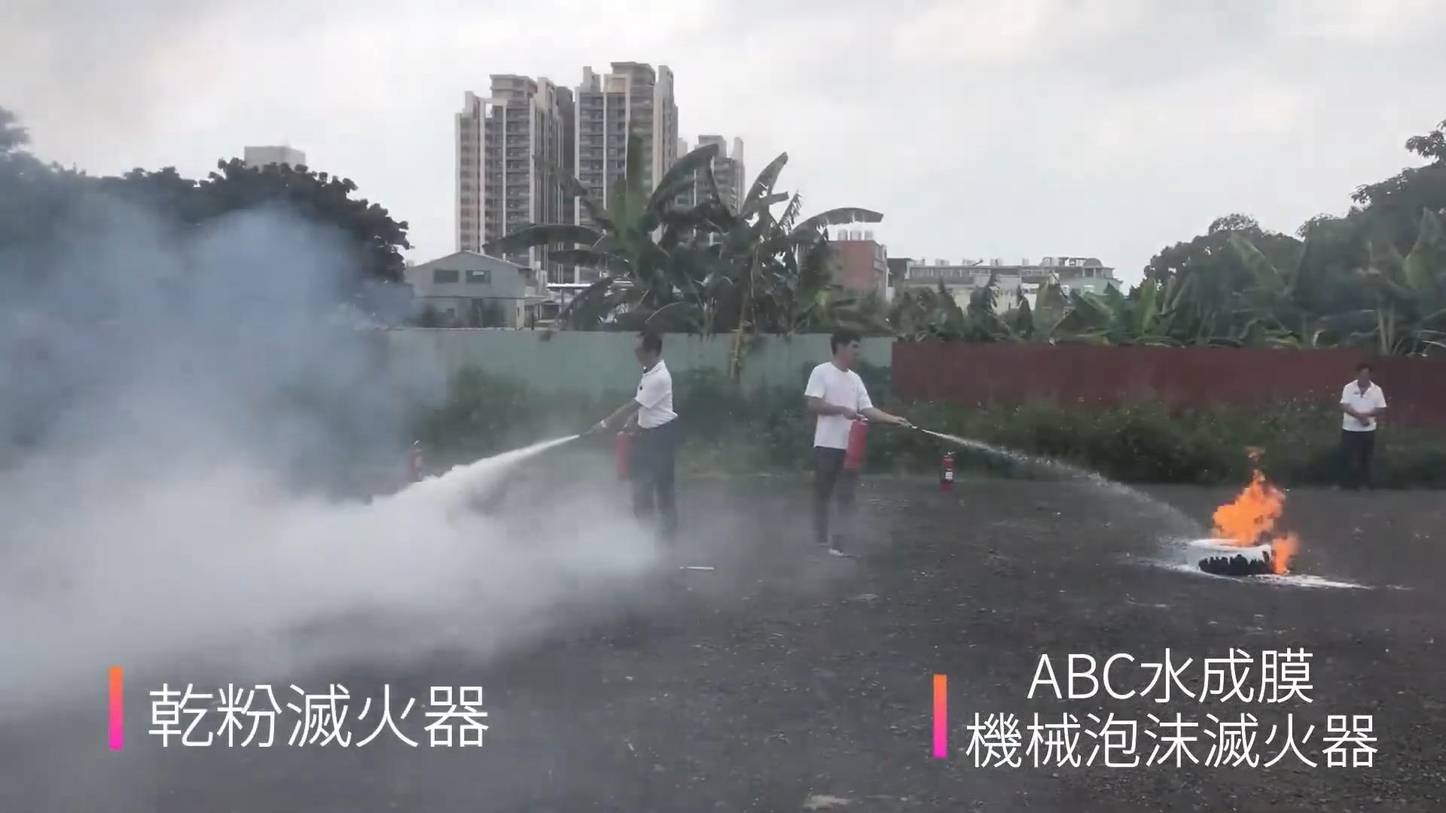FireExtinguisher: (840, 411, 874, 477), (610, 414, 636, 484), (394, 437, 430, 486), (936, 443, 958, 494)
